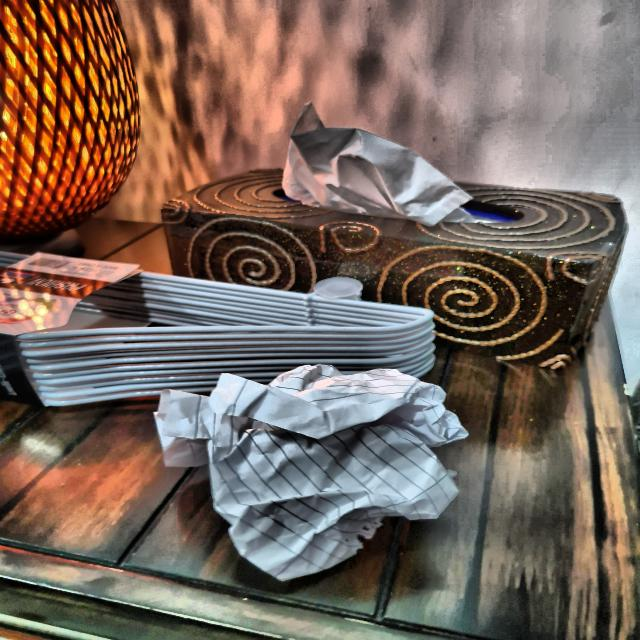Paper: (155, 364, 473, 573)
